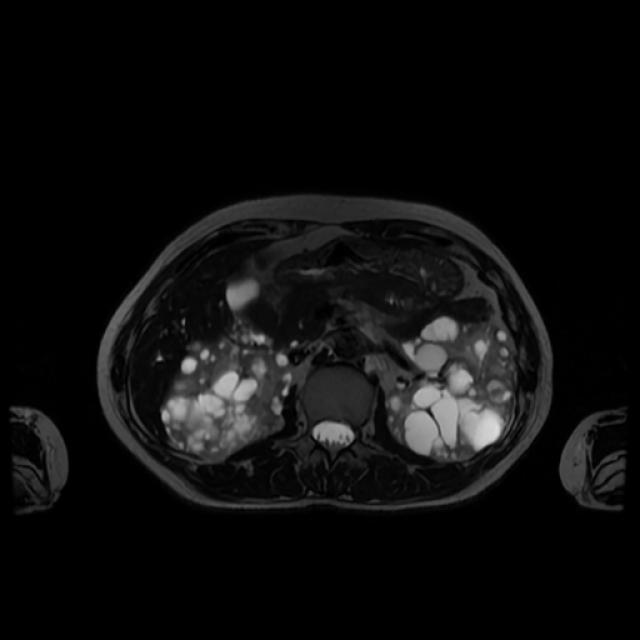sag: (167, 330, 292, 461)
sol: (387, 317, 516, 460)
